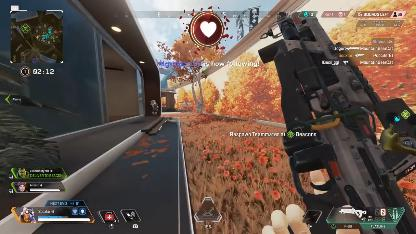Target: (150, 99, 158, 115)
